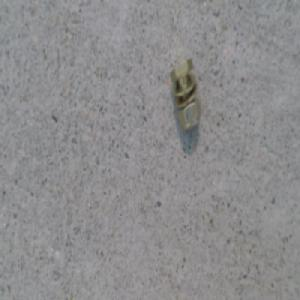BoltNutSet: (168, 57, 198, 132)
